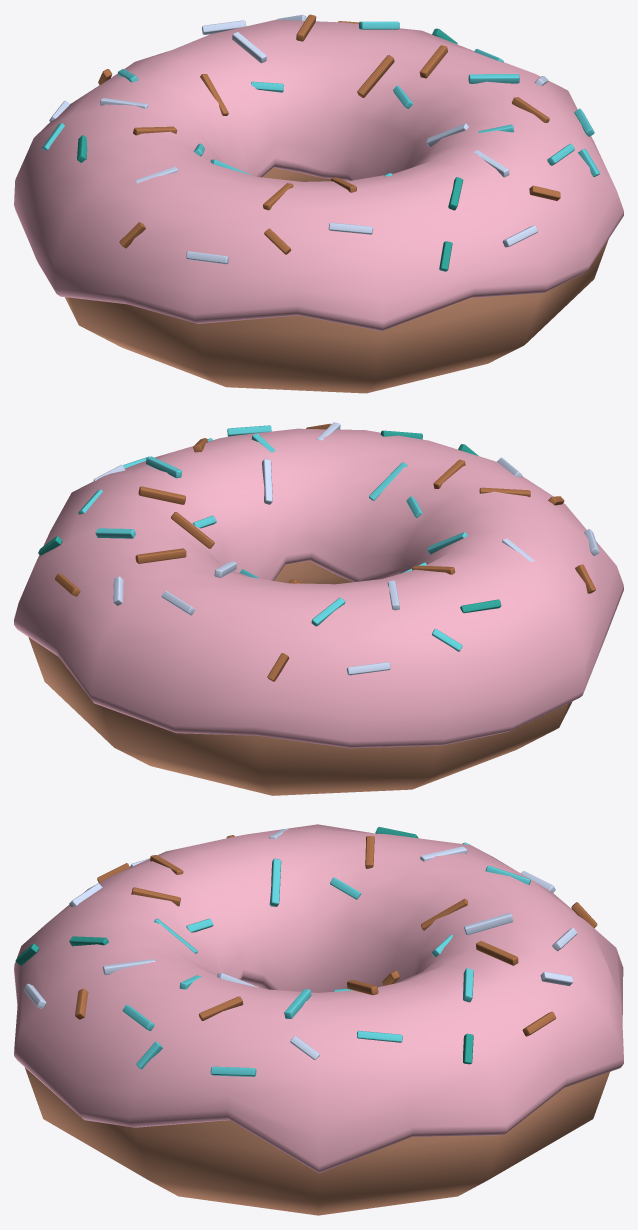
The model's file is Donut_Model.fbx.
The picture shows the model from 3 angles, top to bottom: view 1: azimuth 30°, elevation 25°; view 2: azimuth 150°, elevation 25°; view 3: azimuth 270°, elevation 25°; orthographic projection. The views are drawn at different scales.
Visible parts, largest first — view 1: Donut; view 2: Donut; view 3: Donut.
Part boxes in pixels (x1=…): Donut: x1=14, y1=14, x2=623, y2=393; Donut: x1=14, y1=422, x2=623, y2=795; Donut: x1=14, y1=824, x2=623, y2=1215.
Bounding box in the file's own units: 0.1175 × 0.0418 × 0.1121.
